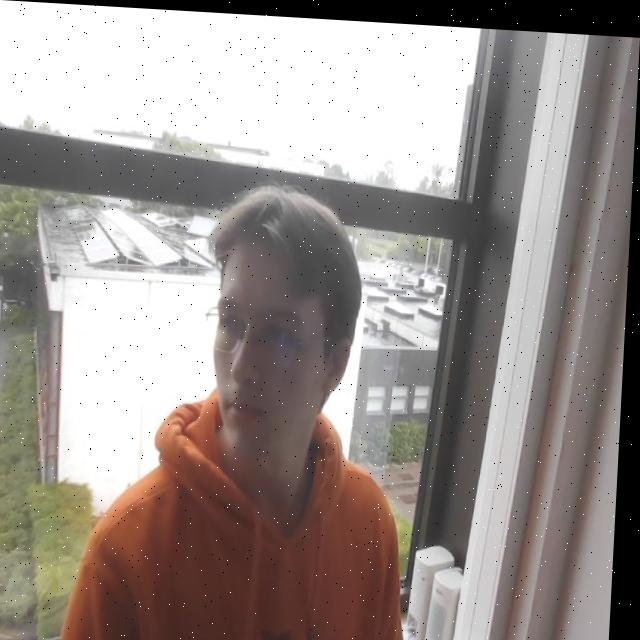opened_eye: (263, 321, 298, 351), (214, 308, 247, 338)
